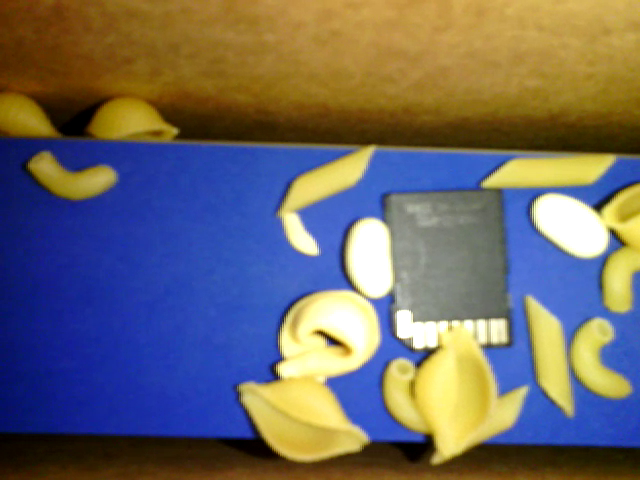elbow: (573, 315, 630, 398), (27, 149, 116, 199), (381, 358, 437, 431), (601, 248, 639, 309)
penne: (427, 382, 531, 463), (279, 141, 374, 217), (525, 294, 578, 415), (478, 149, 616, 193)
shell: (407, 322, 499, 455), (233, 375, 370, 459), (88, 95, 179, 142), (1, 93, 63, 136), (601, 183, 639, 251)
tortellini: (271, 289, 383, 378)
